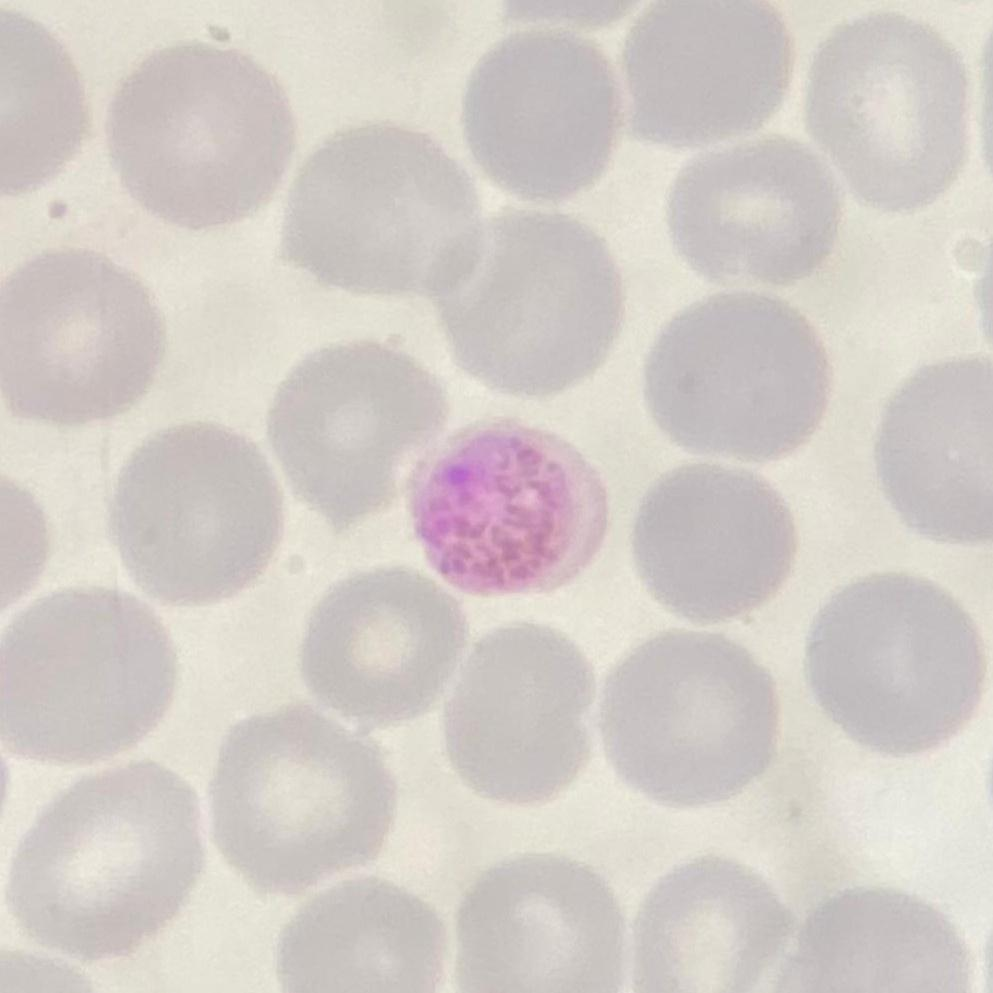Infected: (392, 413, 602, 599)
Uninfected: (10, 763, 202, 964), (437, 208, 629, 405), (272, 121, 487, 295), (268, 336, 452, 534), (210, 701, 389, 902), (800, 571, 982, 759), (105, 418, 286, 604), (810, 8, 969, 215), (110, 41, 284, 230), (640, 288, 824, 464), (600, 638, 776, 809), (0, 593, 174, 761), (442, 623, 599, 807), (662, 136, 834, 295), (460, 38, 624, 202), (3, 251, 162, 419), (295, 568, 464, 721), (632, 466, 792, 626), (620, 1, 796, 145), (628, 858, 801, 993), (458, 856, 628, 993), (875, 353, 993, 540), (273, 878, 451, 993), (795, 881, 968, 993)
